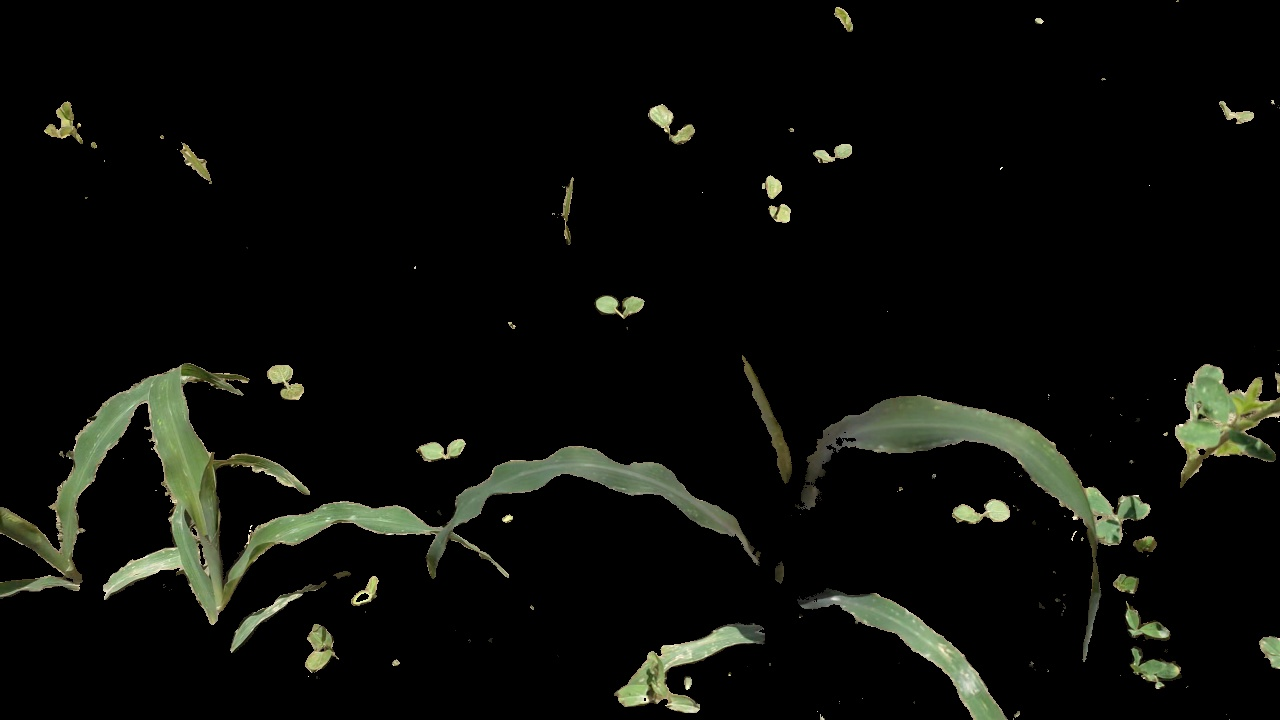crop: (429, 344, 1133, 718), (105, 385, 458, 645), (1, 330, 146, 610)
weed: (1165, 318, 1277, 513), (1078, 480, 1151, 546), (583, 281, 646, 331), (762, 164, 803, 236), (646, 95, 692, 157), (1122, 650, 1186, 691), (1123, 596, 1176, 645), (414, 432, 476, 468), (40, 95, 82, 145), (268, 357, 312, 404), (949, 492, 1010, 524), (805, 135, 856, 169), (350, 571, 396, 607), (313, 617, 335, 676), (1113, 572, 1141, 592)
